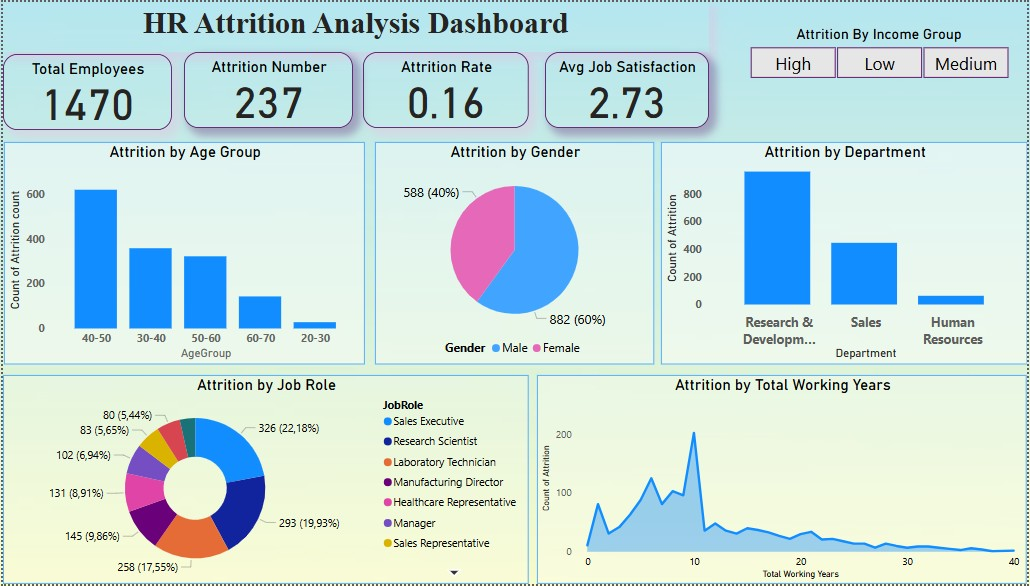

Layout of this report page (visuals, bound fields, positions):
{"tool":"powerbi","page":{"name":"HR Attribution1","canvas":[1280,727],"ordinal":0},"visuals":[{"type":"textbox","box":[0,0,882.3,62.8],"z":0},{"type":"card","title":"Total Employees","fields":{"Values":["Count(HR-Attrition_analysis.EmployeeID)"]},"box":[0,65.3,210.7,95],"z":1000},{"type":"card","title":"Attrition Rate","fields":{"Values":["HR-Attrition_analysis.Attrition Rate"]},"box":[449.8,62.8,207,94.9],"z":2000},{"type":"card","title":"Avg Job Satisfaction","fields":{"Values":["Avg(HR-Attrition_analysis.Job Satisfaction)"]},"box":[677.7,62.8,204.5,94.9],"z":3000},{"type":"columnChart","title":"Attrition by Department","fields":{"Category":["HR-Attrition_analysis.Department"],"Y":["CountNonNull(HR-Attrition_analysis.Attrition)"]},"box":[821.9,175,458.4,278.5],"z":4000},{"type":"card","title":"Attrition Number","fields":{"Values":["Sum(HR-Attrition_analysis.Attrition count)"]},"box":[226.7,62.8,210.7,94.9],"z":5000},{"type":"columnChart","title":"Attrition by Age Group","fields":{"Category":["HR-Attrition_analysis.AgeGroup"],"Y":["CountNonNull(HR-Attrition_analysis.Attrition count)"]},"box":[1.2,175,451,278.5],"z":6000},{"type":"pieChart","title":" Attrition by Gender","fields":{"Category":["HR-Attrition_analysis.Gender"],"Y":["CountNonNull(HR-Attrition_analysis.Attrition)"]},"box":[464.5,175,348.7,278.5],"z":7000},{"type":"lineChart","title":"Attrition by Total Working Years","fields":{"Category":["HR-Attrition_analysis.Total Working Years"],"Y":["CountNonNull(HR-Attrition_analysis.Attrition)"]},"box":[667.9,465.8,612.4,261.2],"z":8000},{"type":"donutChart","title":"Attrition by Job Role","fields":{"Category":["HR-Attrition_analysis.JobRole"],"Y":["CountNonNull(HR-Attrition_analysis.Attrition)"]},"box":[0,465.8,656.8,261.2],"z":9000},{"type":"slicer","title":"Attrition By Income Group","fields":{"Values":["HR-Attrition_analysis.IncomeGroup"]},"box":[908.1,28.3,372.1,67.8],"z":10000}]}

Visuals, with their boxes in screenshot pixels (x1, y1, x2, y2), scaled from the page's 1280x727 canvas onto the 1030x586 screenshot:
textbox: detection(0, 0, 710, 51)
"Total Employees" card: detection(0, 53, 170, 129)
"Attrition Rate" card: detection(362, 51, 529, 127)
"Avg Job Satisfaction" card: detection(545, 51, 710, 127)
"Attrition by Department" columnChart: detection(661, 141, 1029, 366)
"Attrition Number" card: detection(182, 51, 352, 127)
"Attrition by Age Group" columnChart: detection(1, 141, 364, 366)
" Attrition by Gender" pieChart: detection(374, 141, 654, 366)
"Attrition by Total Working Years" lineChart: detection(537, 375, 1029, 585)
"Attrition by Job Role" donutChart: detection(0, 375, 529, 585)
"Attrition By Income Group" slicer: detection(731, 23, 1029, 77)
